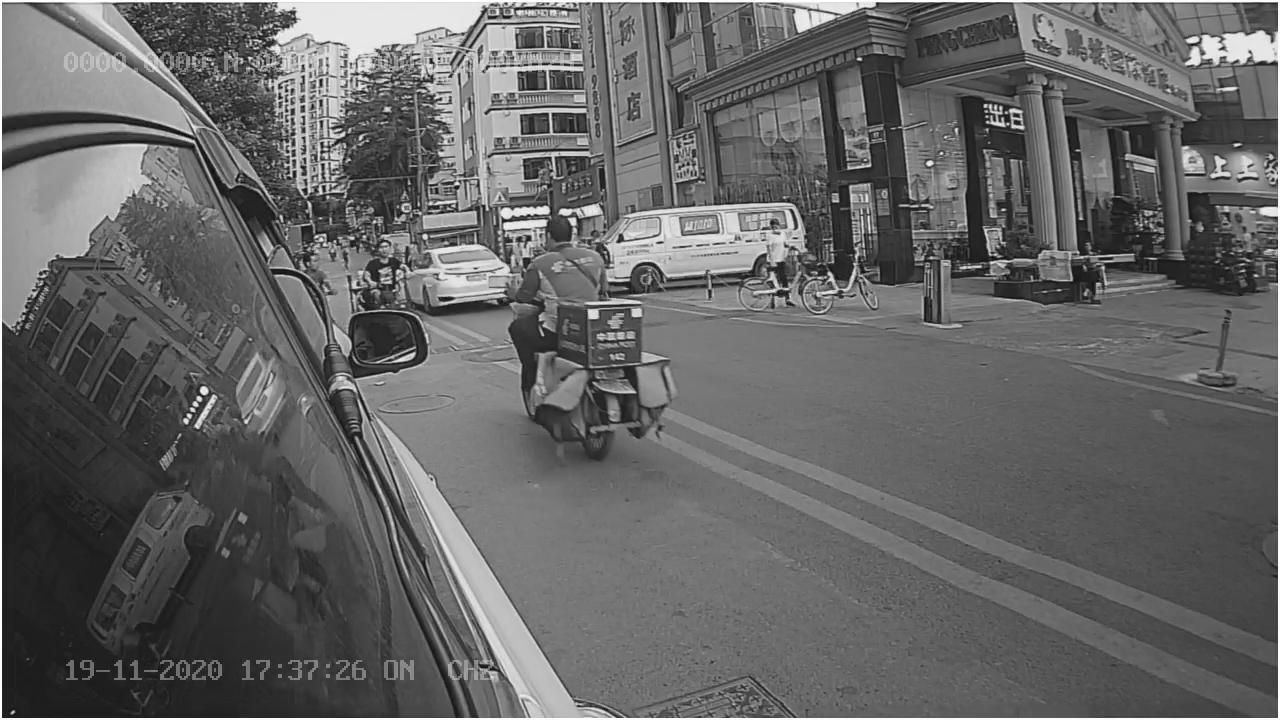person: (520, 214, 606, 297)
